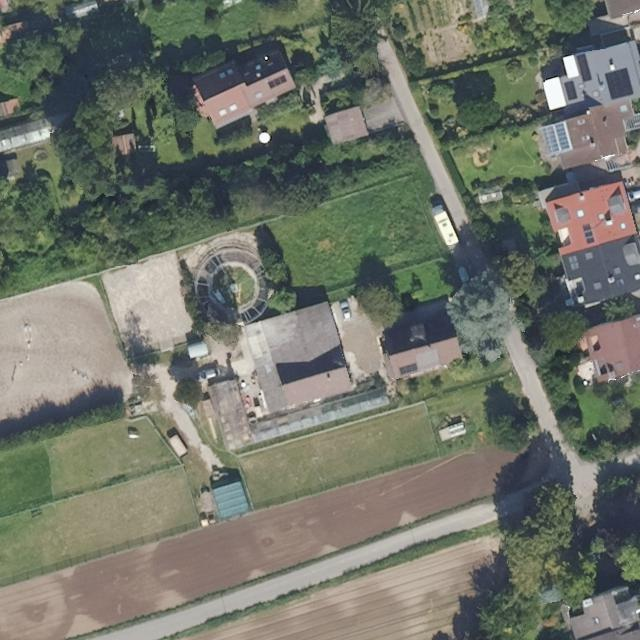PV: (603, 66, 635, 101), (576, 53, 593, 83), (266, 73, 288, 91), (563, 79, 579, 102), (583, 222, 597, 246), (399, 362, 419, 376)
